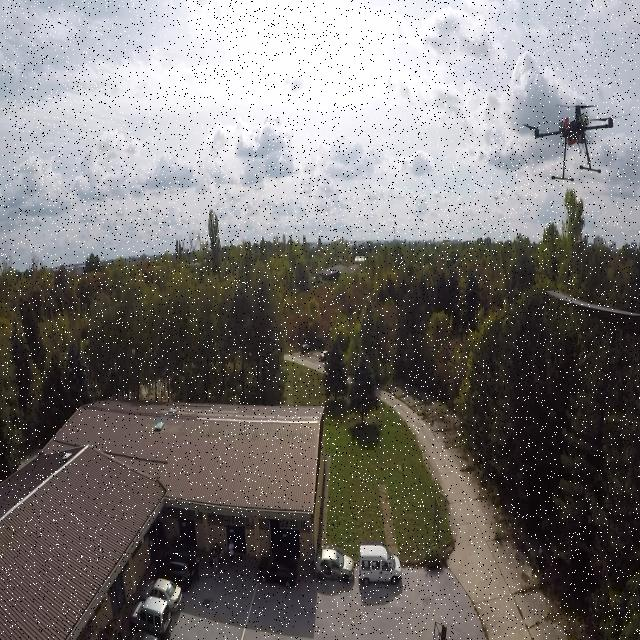UAV: (522, 100, 634, 184)
